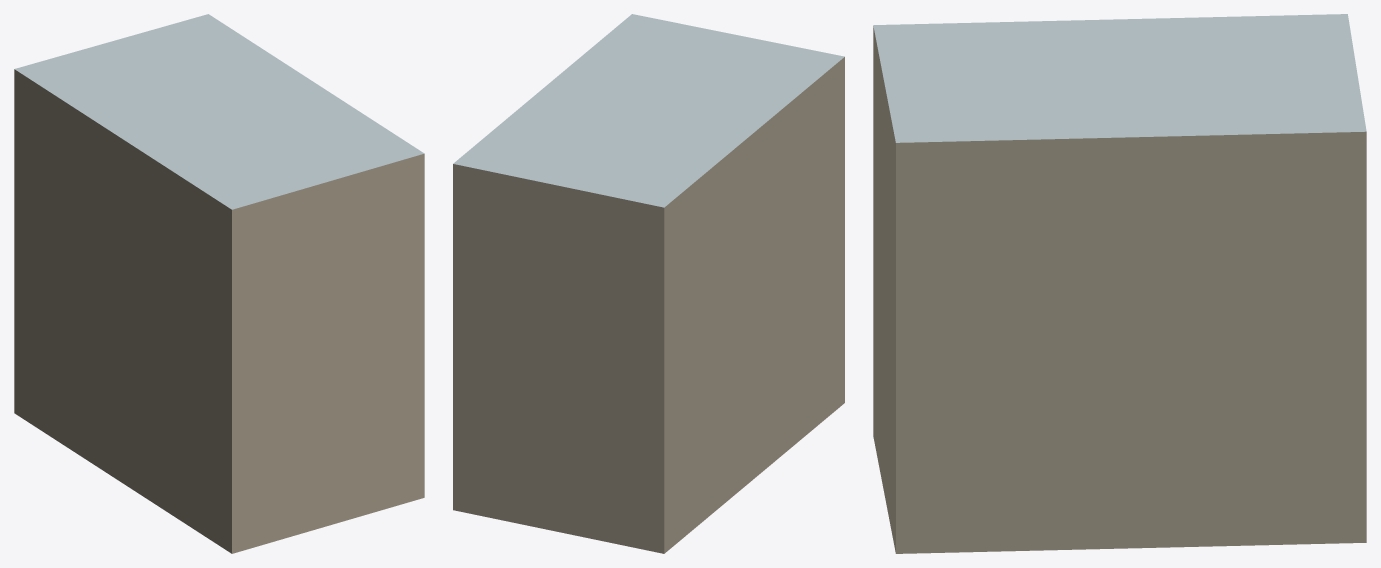
3 views of the same model, side by side, from view 1: azimuth 30°, elevation 25°; view 2: azimuth 150°, elevation 25°; view 3: azimuth 270°, elevation 25° (orthographic). The views are drawn at different scales.
Parts seen in each view (by area): view 1: tuile; view 2: tuile; view 3: tuile.
Boxes of the visible parts, bbox=[...] form: tuile: bbox=[14, 14, 424, 553]; tuile: bbox=[453, 14, 844, 553]; tuile: bbox=[873, 14, 1366, 553].
Size of the model in its own units: 8.1 by 12.04 by 13.1.
